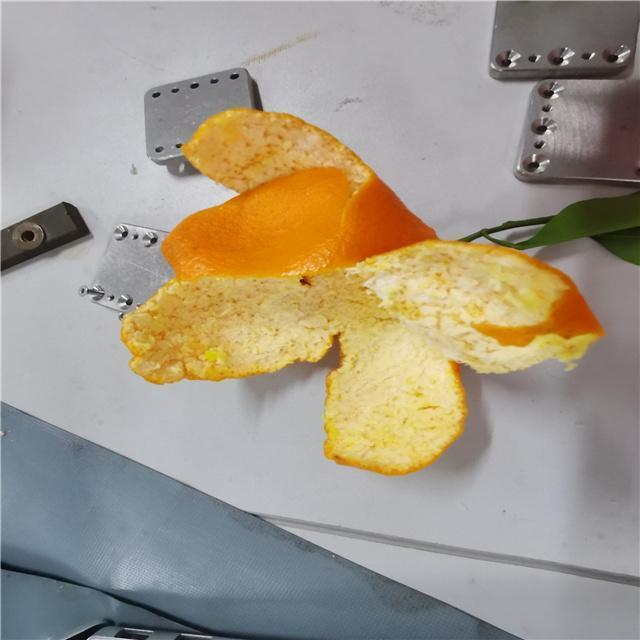orange peel: (119, 108, 605, 479)
